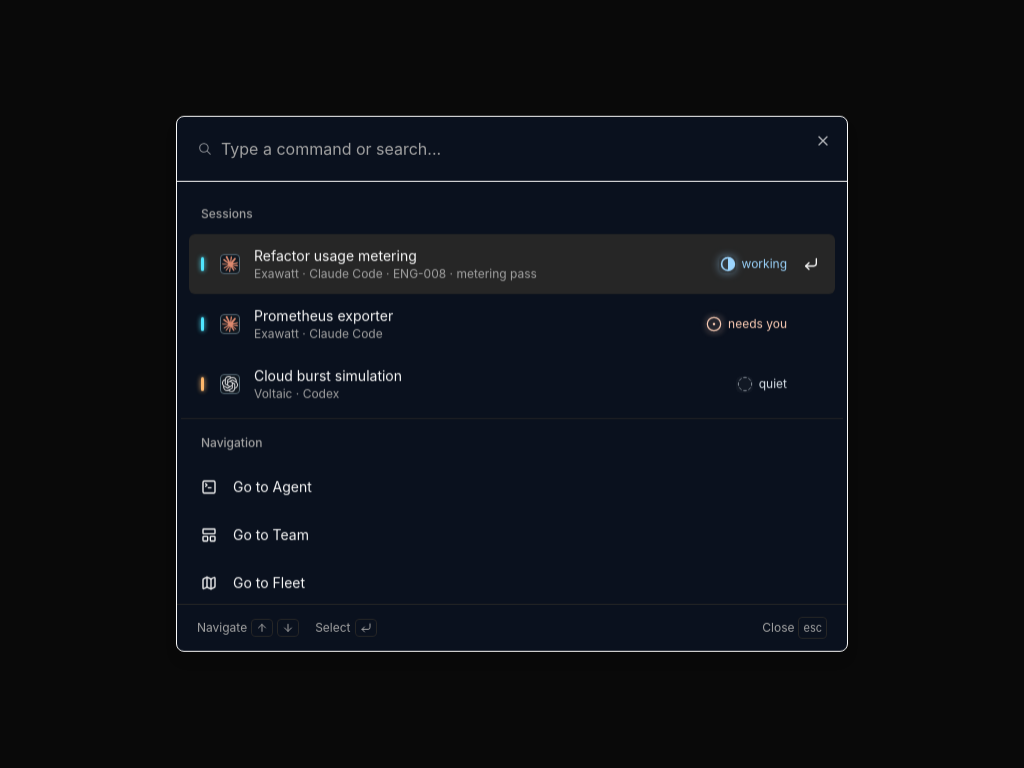
Test: ⌘K ranking (ENG-016) › ranks a newly added surface first by its own name
Type "coordination" into the dropdown with placeholder "Type a command or search...". click: (524, 149)
box: [221,117,827,181]
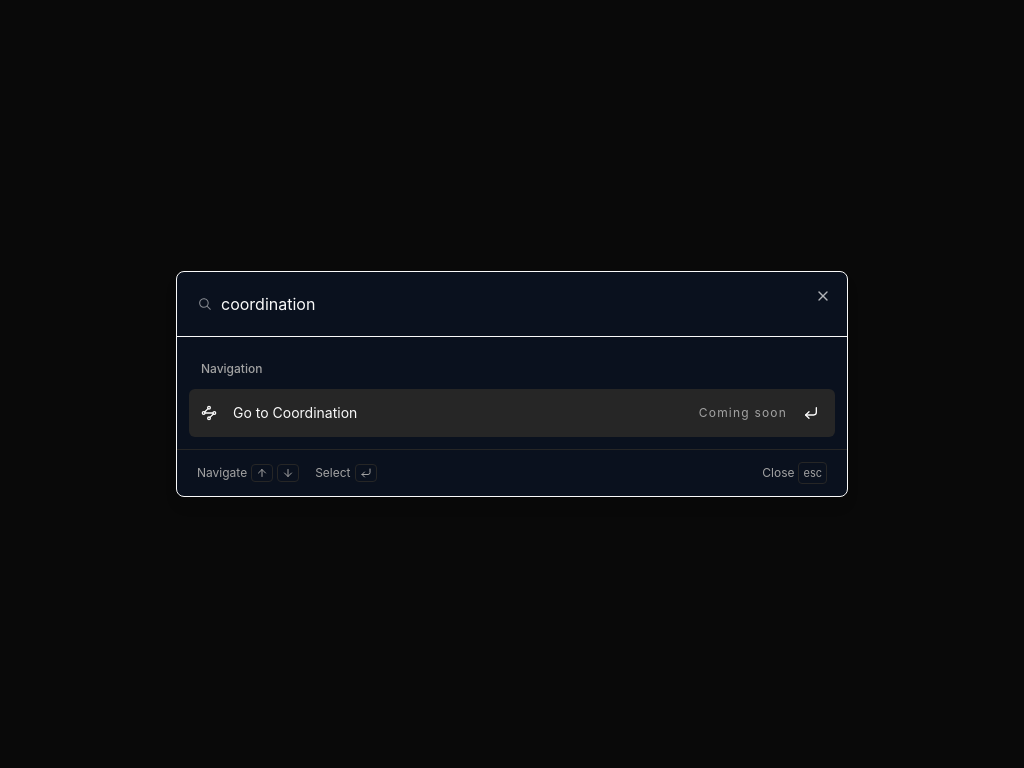
Check: the option "Go to Coordination Coming soon" is shown, box [189,389,835,437]
